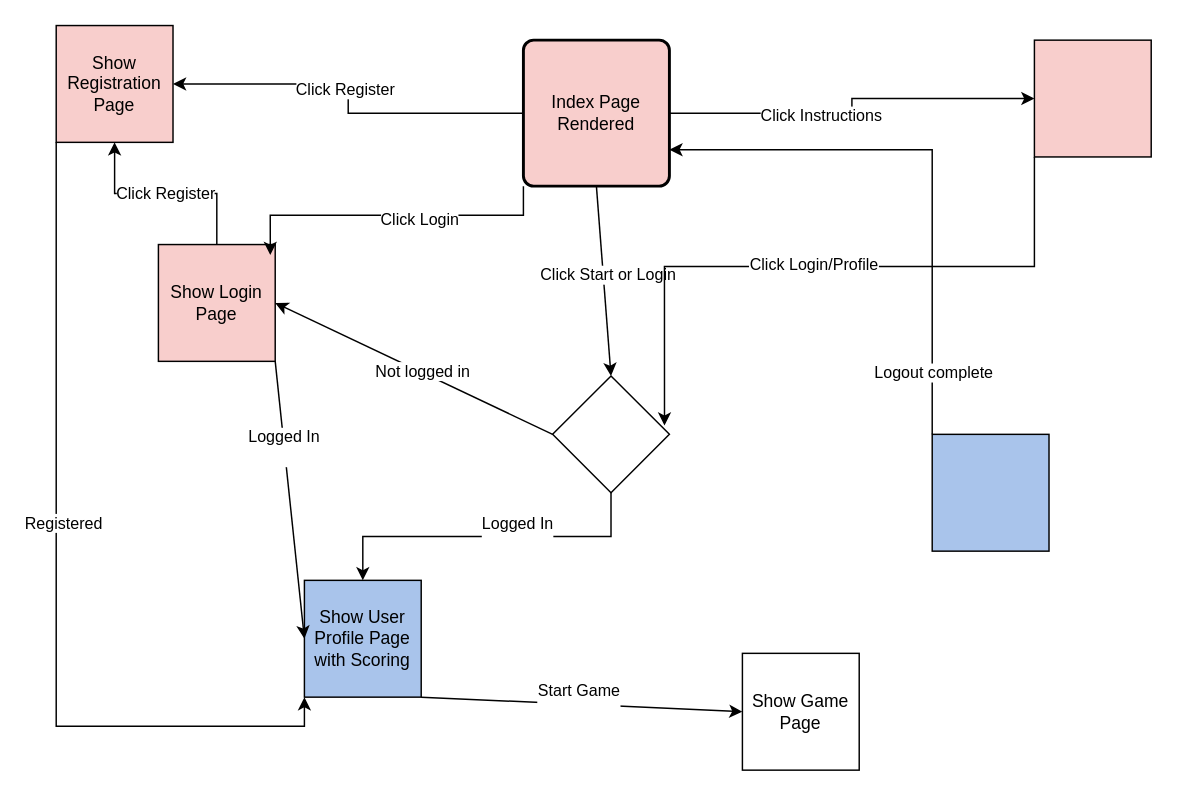
This 1178x796 diagram has some shape labels left out. Each missing label, with the centre of its shape:
Is the user logged in?: the point at 610,433
Show Instructions Page: the point at 1092,98
User Can Log Out From Any Screen: the point at 990,492
